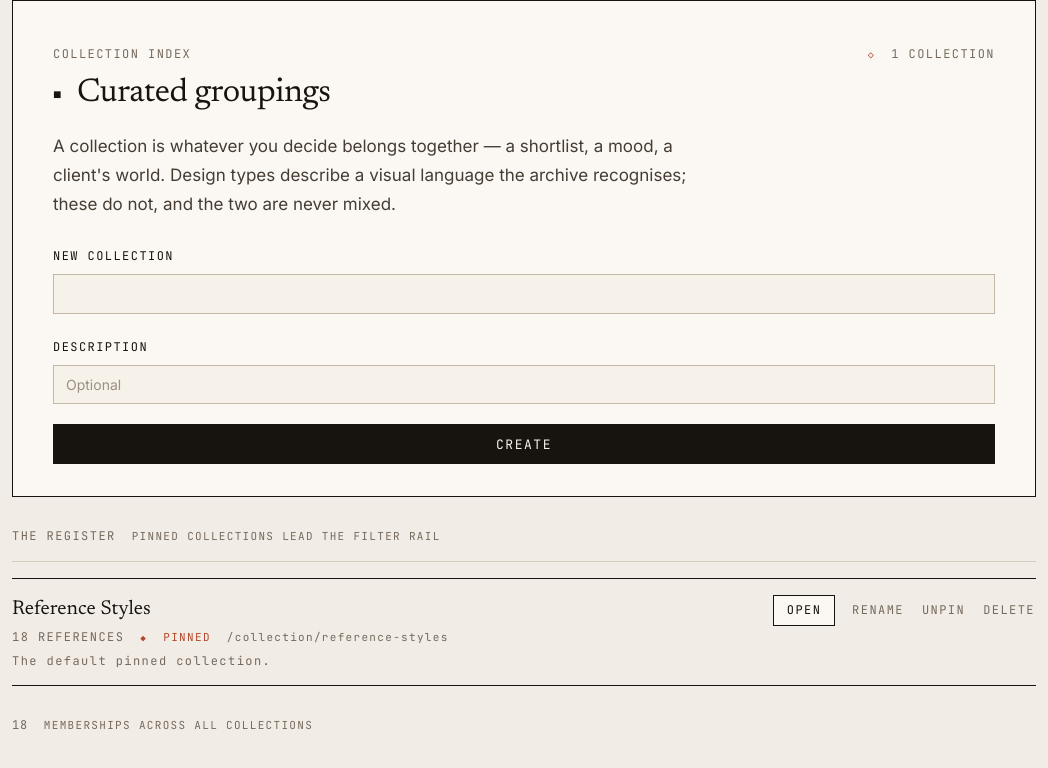
Test: creating a collection › reports a slug the archive already holds
Expected: the link "Reference Styles" is shown, top-left (12, 599), bottom-right (151, 619)
Step 1. Type "Reference Styles" into the field labelled "New collection" → (524, 294), box top-left (53, 274), bottom-right (995, 314)
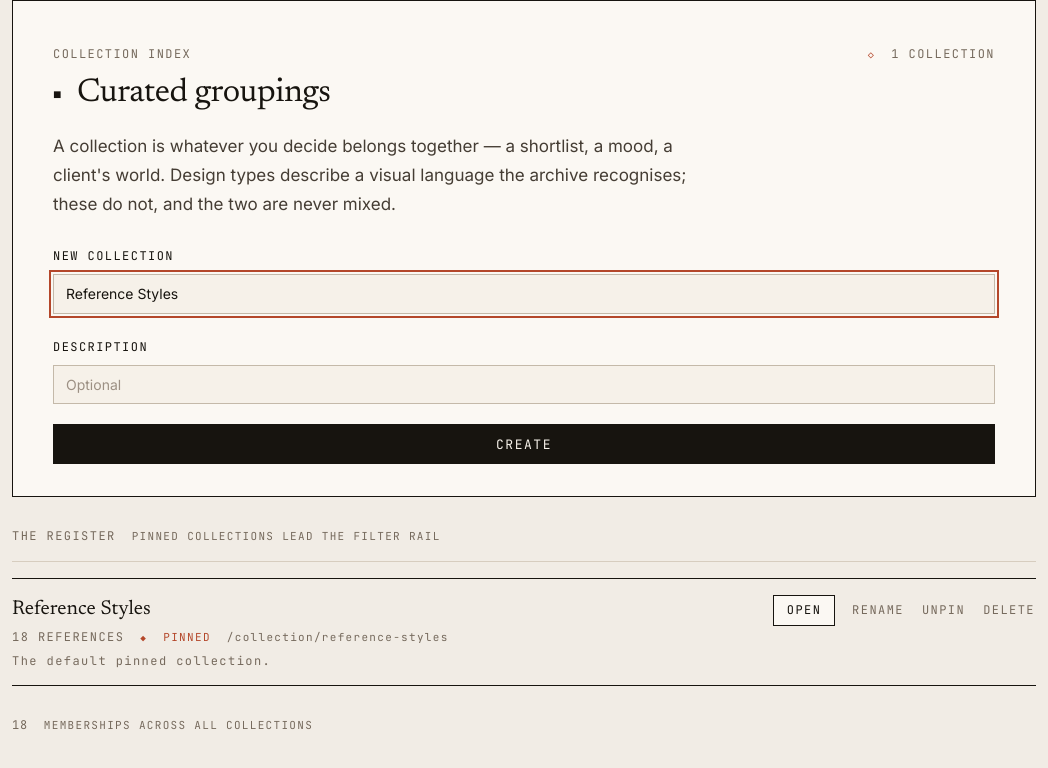
Step 2. Click the button "Create" → (524, 444), box top-left (53, 424), bottom-right (995, 464)
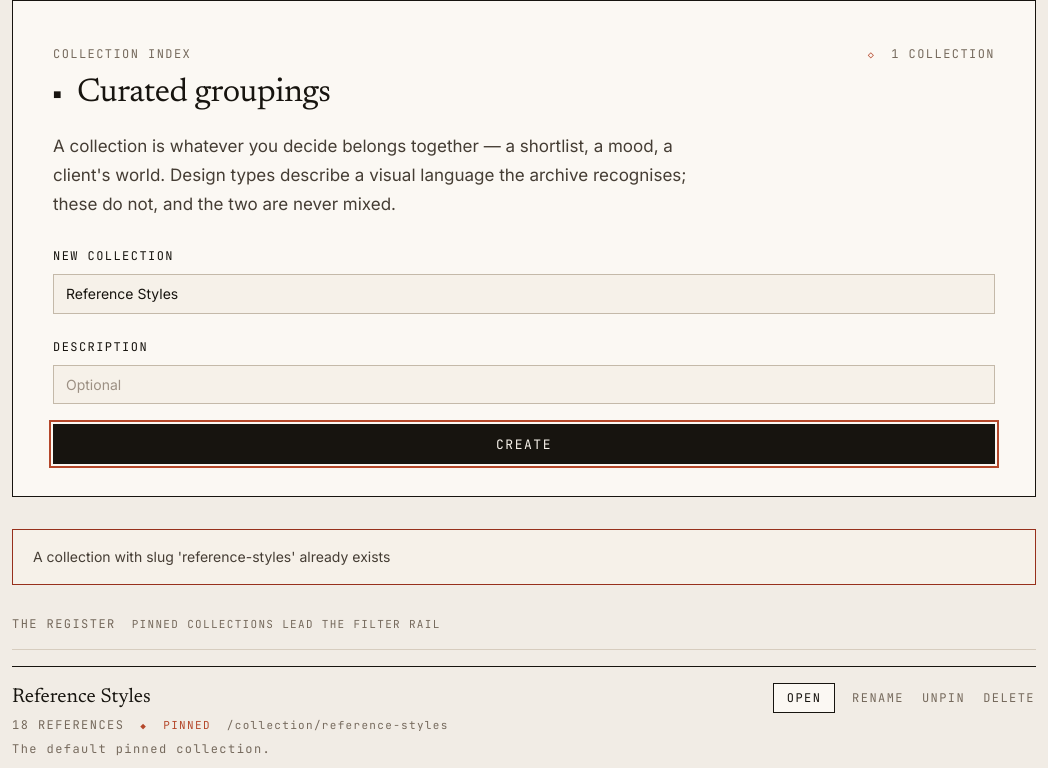
Expected: the message shows "already exists", top-left (33, 548), bottom-right (390, 565)
